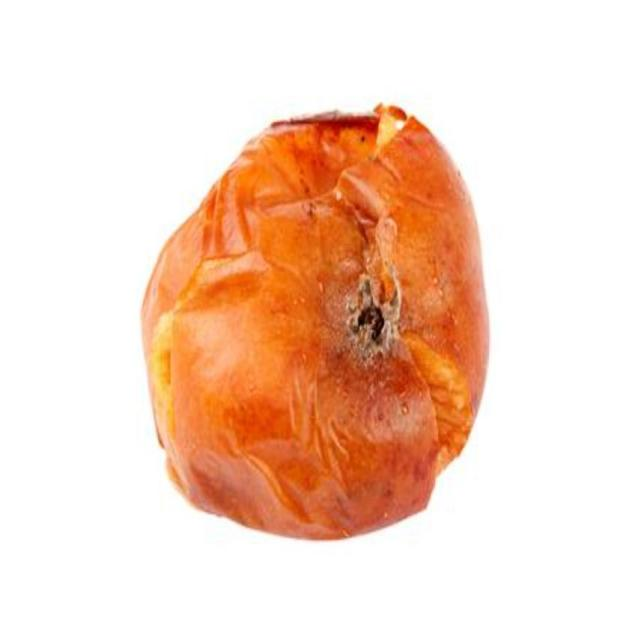Rotten Apple: (119, 90, 541, 563)
